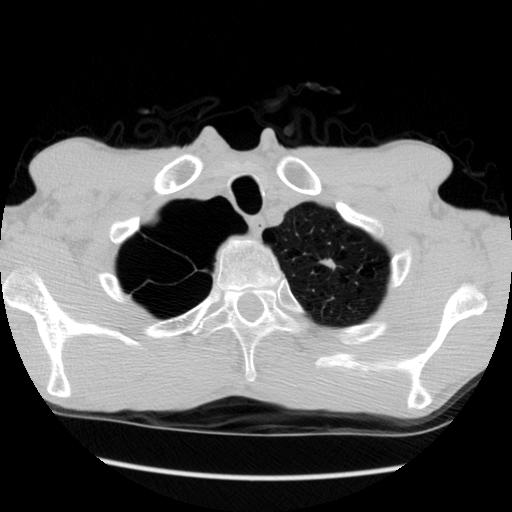nodule: (320, 254, 339, 273)
